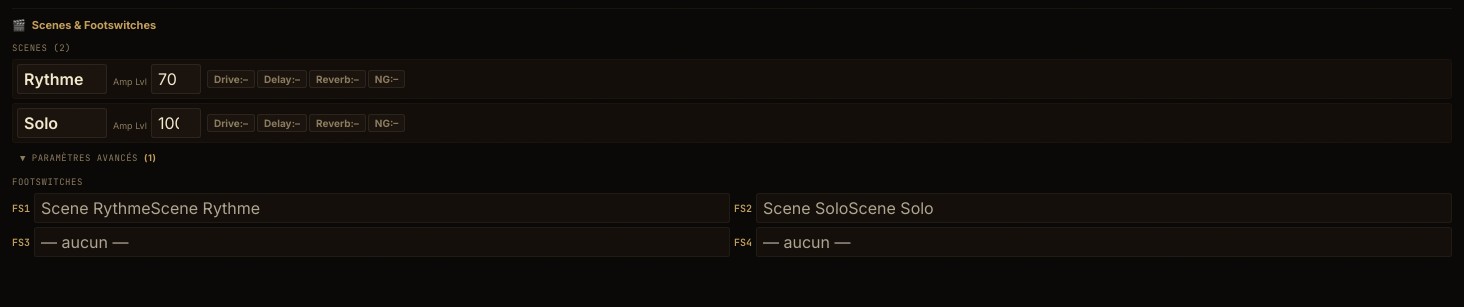
Scenario: ScenesEditor — paramOverrides collapsable (Phase 5 Item I) › read-only : pas de mini-form, mais affichage des overrides existants
Click the button with test id "tmp-scene-adv-toggle-solo": click(88, 158) [20,150,156,166]
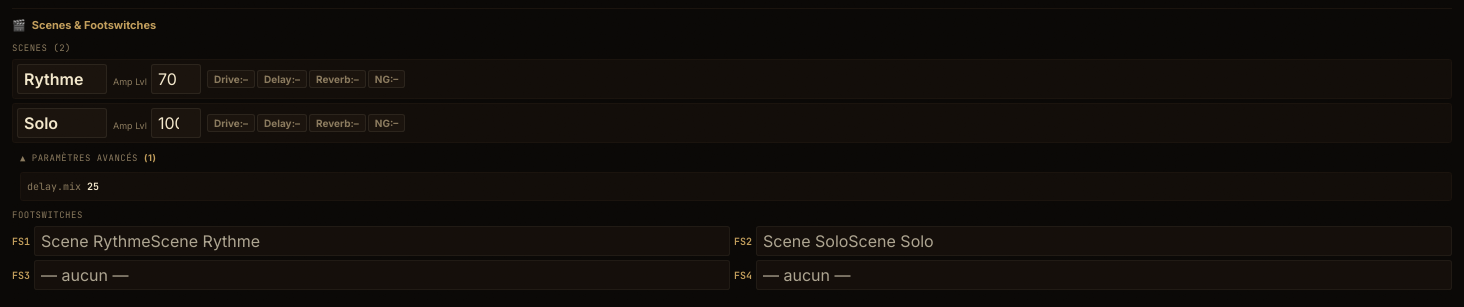
Check: the element with test id "tmp-scene-adv-entry-solo-delay-mix" is shown, box [27,180,99,192]
